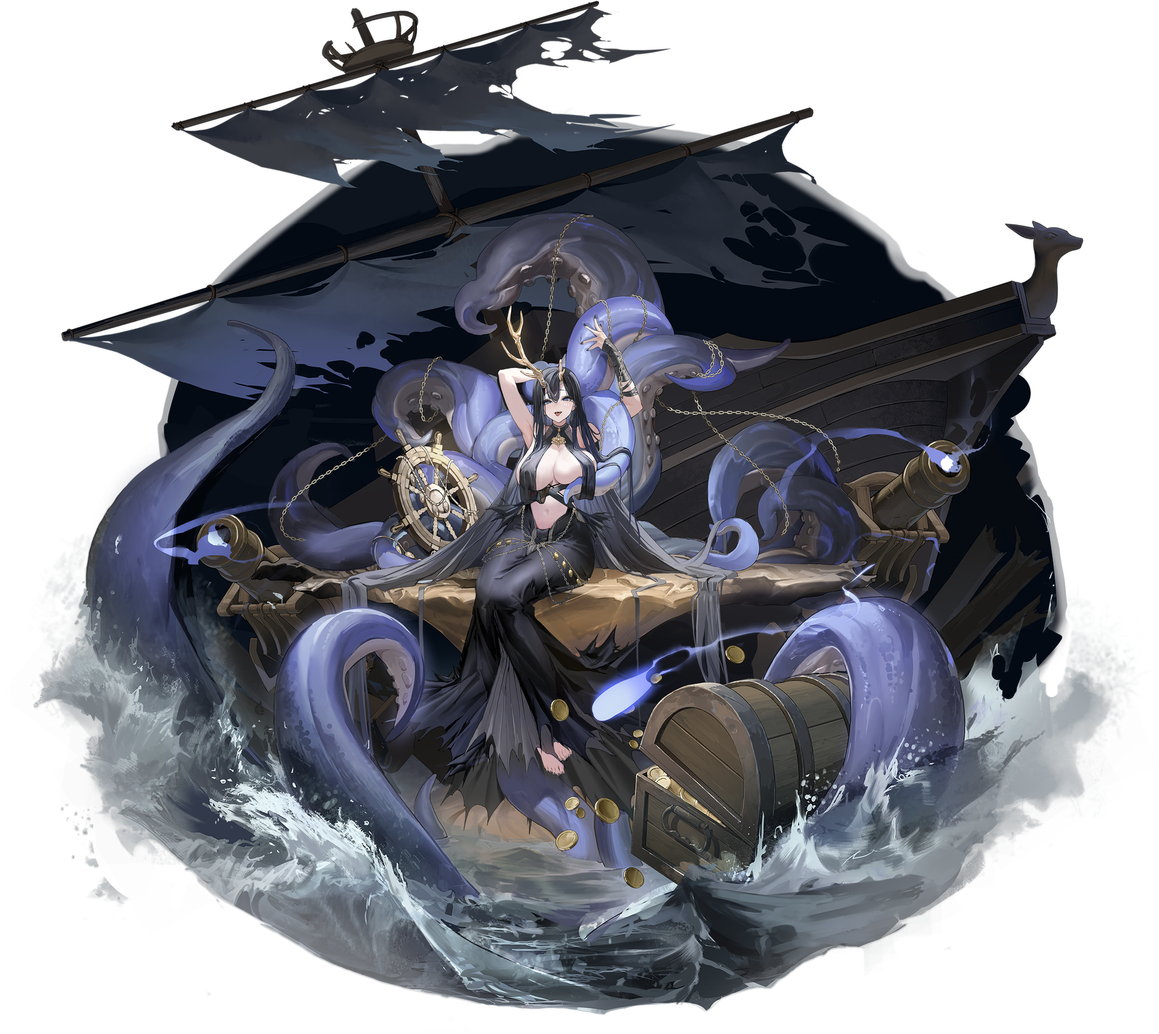person: (353, 329, 666, 886)
